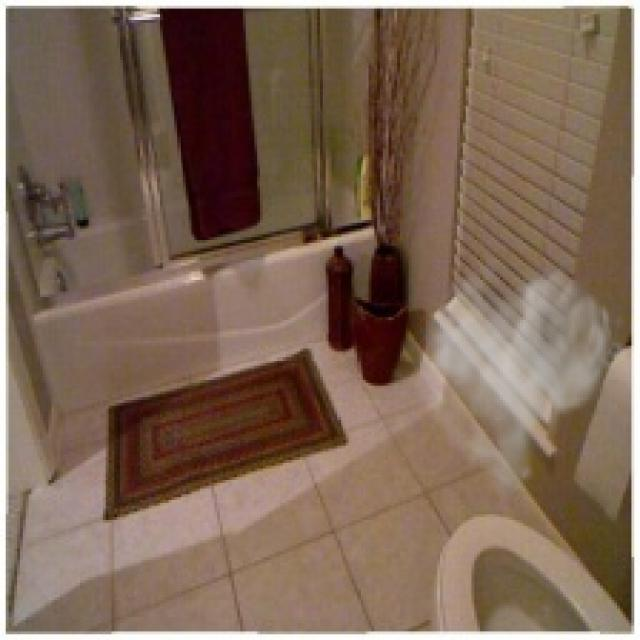smoke: (417, 243, 629, 508)
